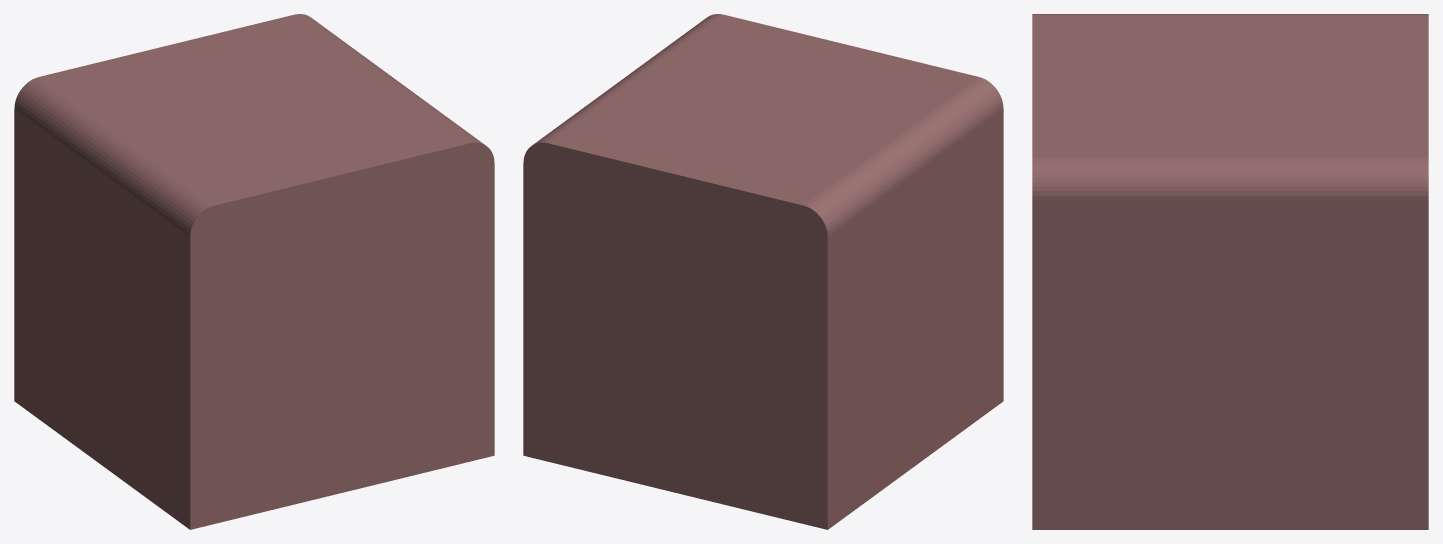
Rendered from belt.glb.
3 renders of one model, left to right at view 1: azimuth 30°, elevation 25°; view 2: azimuth 150°, elevation 25°; view 3: azimuth 270°, elevation 25°, orthographic. The views are drawn at different scales.
Visible parts, largest first — view 1: Cube.001; view 2: Cube.001; view 3: Cube.001.
Boxes of the visible parts, left/top/right/bottom form: Cube.001: left=14, top=14, right=494, bottom=529; Cube.001: left=523, top=14, right=1003, bottom=529; Cube.001: left=1032, top=14, right=1428, bottom=529.
Bounding box in the file's own units: 0.96 × 0.96 × 0.96.
Materials: 2 (2 with a texture image).
